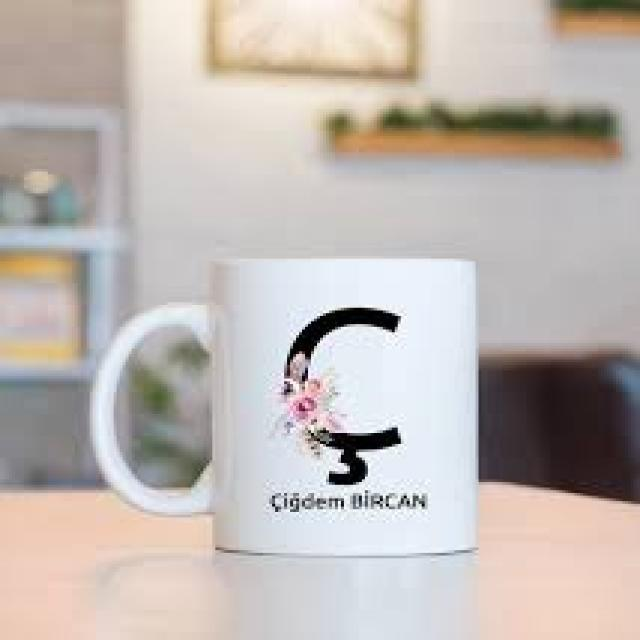taza: (90, 255, 480, 560)
